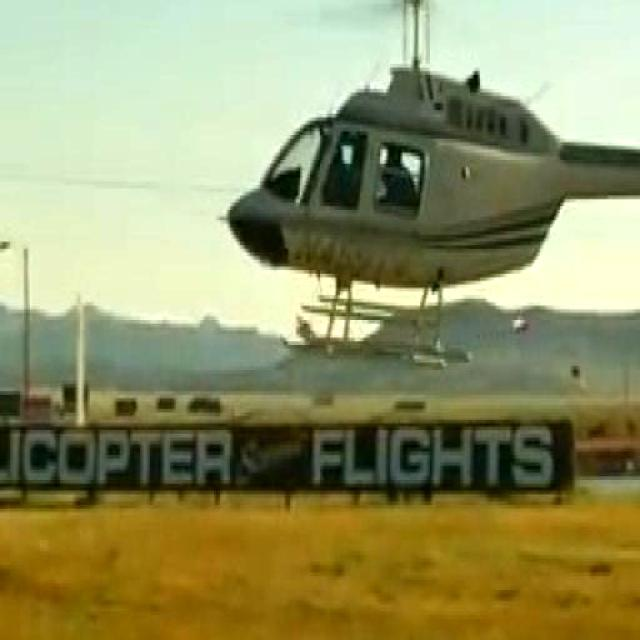drone: (219, 0, 640, 362)
